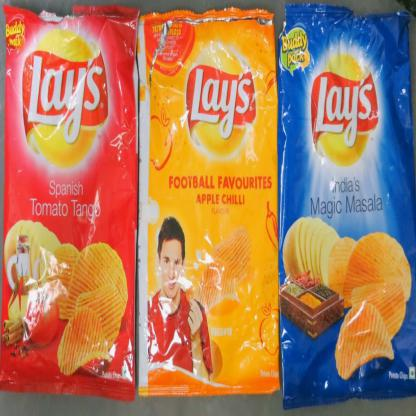indian_magic_masala: (280, 14, 415, 393)
tangy_tomato: (6, 13, 133, 400)
